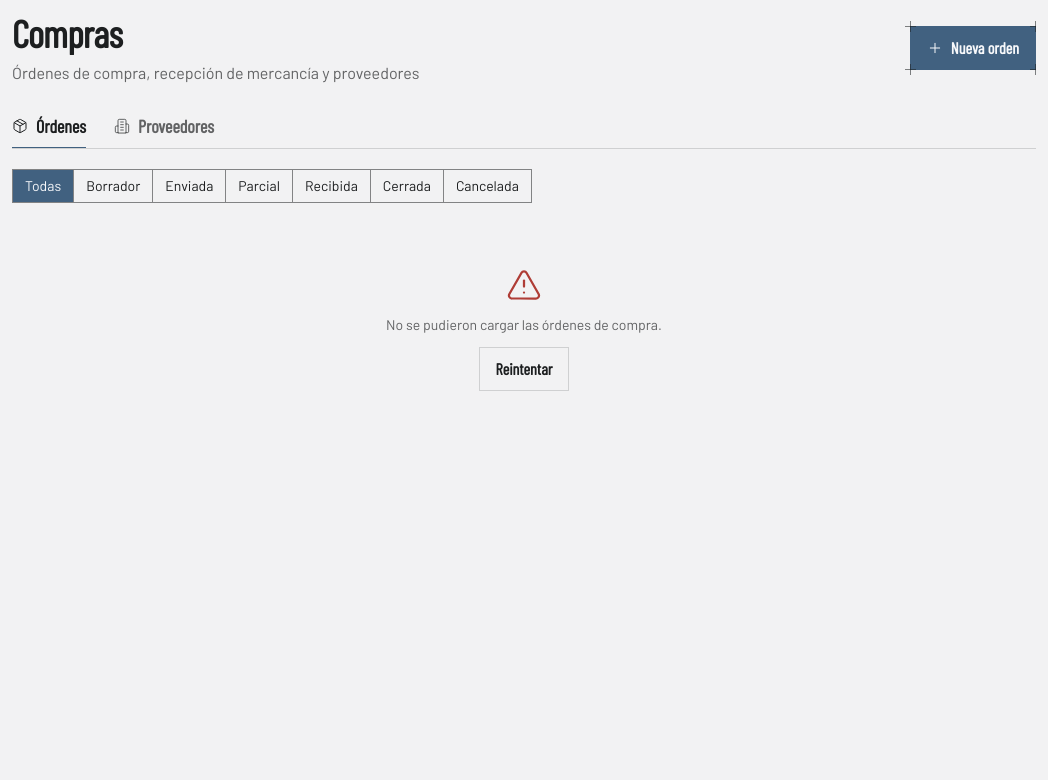
it: Compras · órdenes › estado de error con reintento
Expected: the text "No se pudieron cargar las órdenes de compra." is shown, top-left (386, 314), bottom-right (662, 334)
Click the button "Reintentar".
click(524, 368)  # box top-left (479, 346), bottom-right (569, 390)
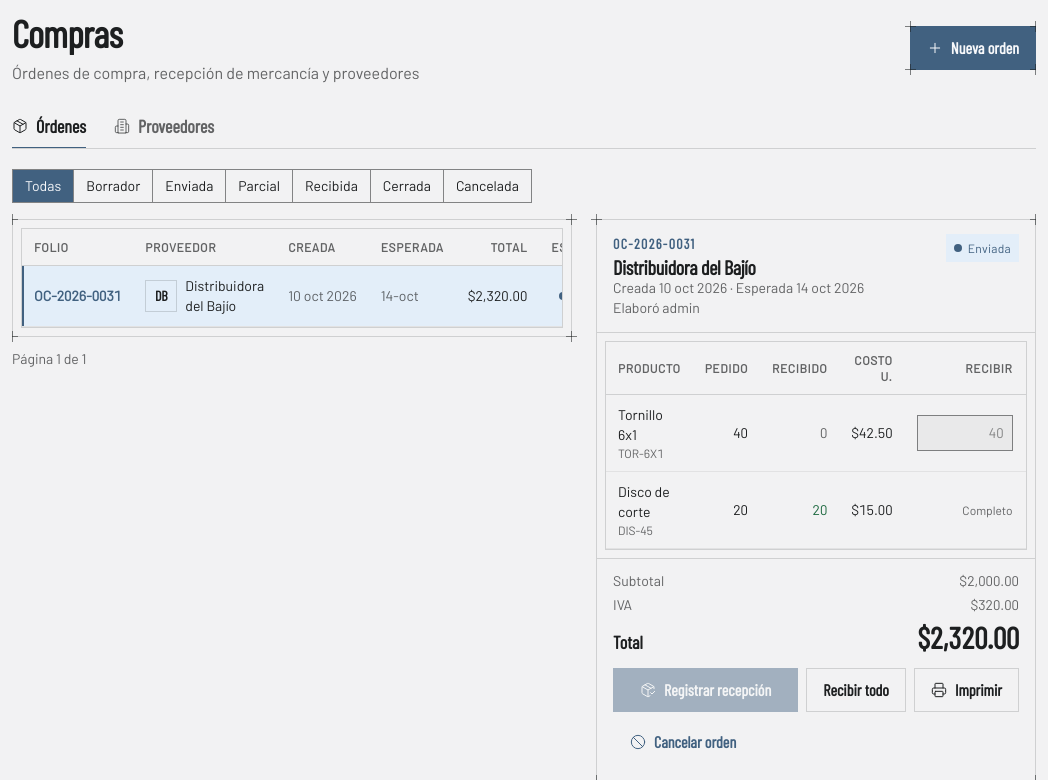
Result: the button "OC-2026-0031" is shown at top-left (34, 286), bottom-right (121, 306)
